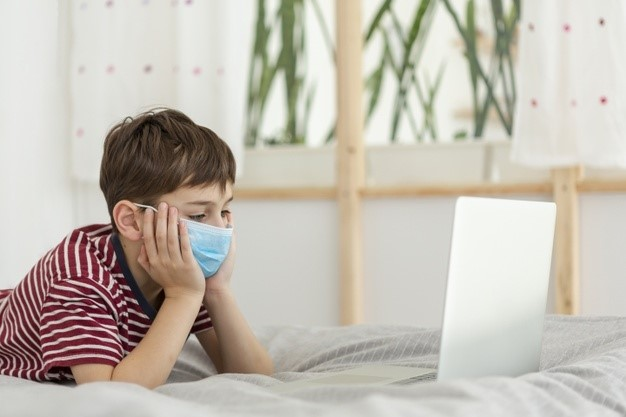face_with_mask: (100, 109, 239, 292)
